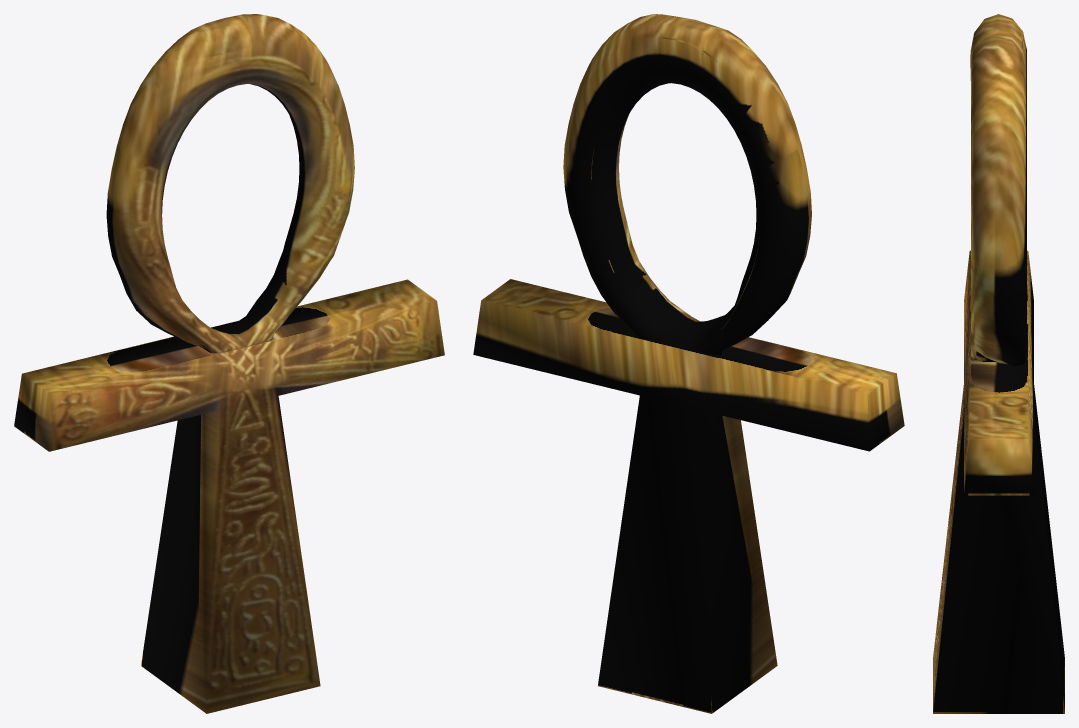
Rendered from Ankh by MK.fbx.
3 views of the same model, side by side, from view 1: azimuth 30°, elevation 25°; view 2: azimuth 150°, elevation 25°; view 3: azimuth 270°, elevation 25° (orthographic).
Parts seen in each view (by area): view 1: Torus; view 2: Torus; view 3: Torus.
Part boxes in pixels (x1=…): Torus: x1=14, y1=14, x2=444, y2=713; Torus: x1=473, y1=14, x2=904, y2=713; Torus: x1=933, y1=14, x2=1064, y2=713.
Size of the model in its own units: 410 by 648 by 118.
